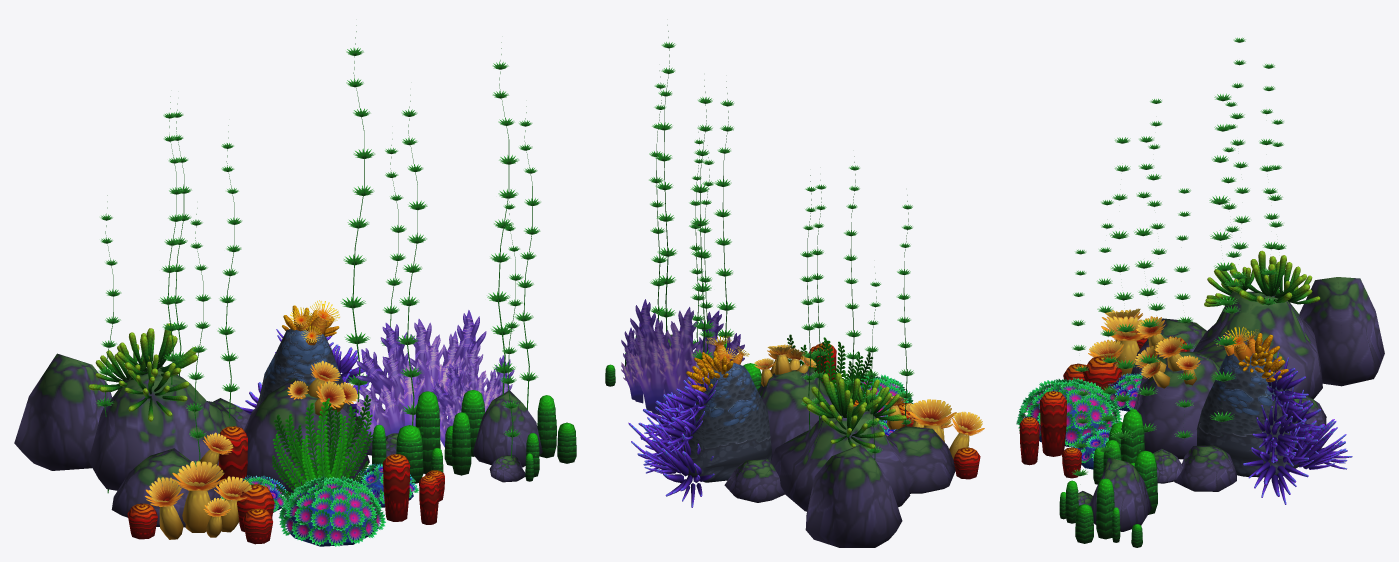
File: CoralSet_17.FBX
The picture shows the model from 3 angles, left to right: view 1: azimuth 30°, elevation 25°; view 2: azimuth 150°, elevation 25°; view 3: azimuth 270°, elevation 25°; orthographic projection. The views are drawn at different scales.
Visible parts, largest first — view 1: Set_17, Set_17_Part71, Set_17_Part15 (×2), Set_17_Part344, Set_17_Part69, Set_17_Part53, Set_17_Part61, Set_17_Part65, Coral_08a003, Set_17_Part24, Set_17_Part52, Set_17_Part06 (+22 smaller); view 2: Set_17, Set_17_Part53, Set_17_Part71, Set_17_Part344, Coral_08a003, Set_17_Part12, Set_17_Part06, Set_17_Part24, Set_17_Part11, Set_17_Part65, Coral_08a001, Set_17_Part343 (+17 smaller); view 3: Set_17, Set_17_Part53, Set_17_Part15 (×2), Set_17_Part69, Set_17_Part57, Coral_08a003, Set_17_Part52, Set_17_Part10, Set_17_Part11, Set_17_Part09, Set_17_Part24, Set_17_Part65 (+26 smaller).
Part boxes in pixels (x1,y1,x2,y2): Set_17: (14,353,542,527); Set_17_Part71: (356,310,486,440); Set_17_Part15 (×2): (278,463,418,546); Set_17_Part344: (272,395,373,501); Set_17_Part69: (372,390,484,483); Set_17_Part53: (256,329,353,417); Set_17_Part61: (430,355,514,447); Set_17_Part65: (172,461,225,532); Coral_08a003: (116,323,197,377); Set_17_Part24: (340,25,375,412); Set_17_Part52: (383,454,410,521); Set_17_Part06: (487,42,519,396); Set_17: (664,334,955,547); Set_17_Part53: (679,363,771,482); Set_17_Part71: (630,299,744,416); Set_17_Part344: (786,334,873,401); Coral_08a003: (802,373,881,422); Set_17_Part12: (660,427,714,507); Set_17_Part06: (655,25,677,331); Set_17_Part24: (690,80,714,359); Set_17_Part11: (628,417,682,473); Set_17_Part65: (908,399,956,442); Coral_08a001: (821,398,884,448); Set_17_Part343: (664,373,717,425); Set_17: (1078,277,1384,531); Set_17_Part53: (1196,344,1311,477); Set_17_Part15 (×2): (1016,377,1121,469); Set_17_Part69: (1093,409,1157,514); Set_17_Part57: (1174,445,1236,491); Coral_08a003: (1228,250,1309,304); Set_17_Part52: (1040,391,1066,456); Set_17_Part10: (1243,426,1308,504); Set_17_Part11: (1288,419,1346,469); Set_17_Part09: (1252,397,1305,466); Set_17_Part24: (1209,93,1238,435); Set_17_Part65: (1101,316,1145,375).
Bounding box in the file's own units: 84.18 × 83.57 × 65.
